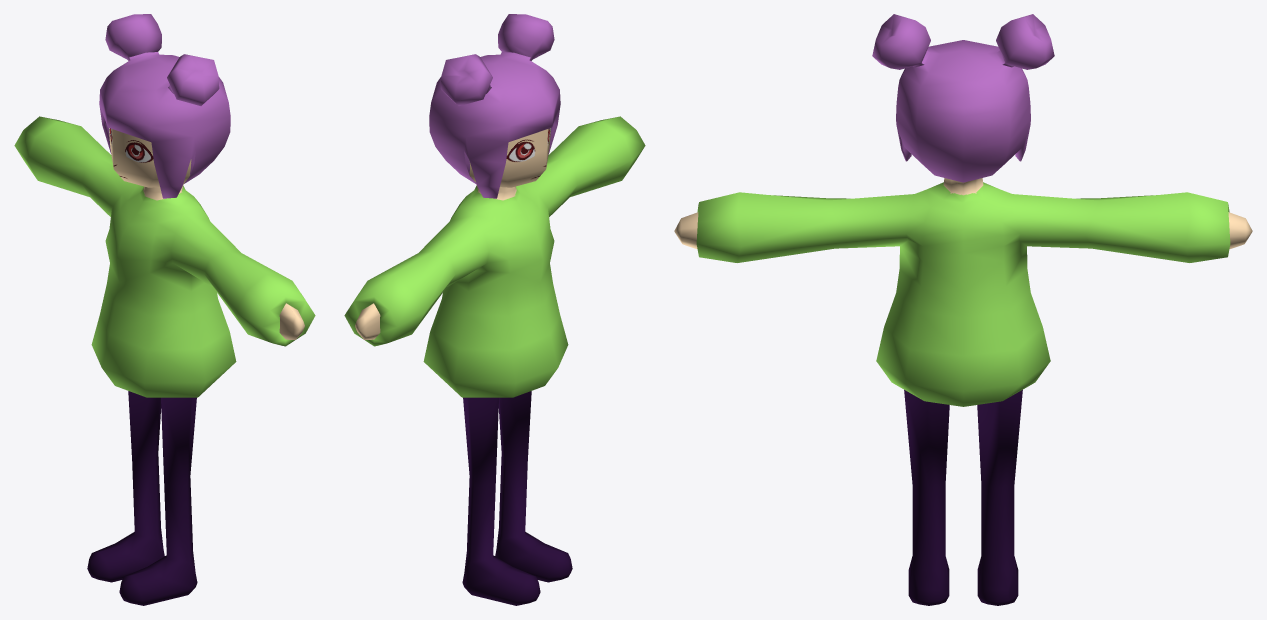
File: floyd.fbx
3 renders of one model, left to right at view 1: azimuth 30°, elevation 25°; view 2: azimuth 150°, elevation 25°; view 3: azimuth 270°, elevation 25°, orthographic. The views are drawn at different scales.
Visible parts, largest first — view 1: Box001; view 2: Box001; view 3: Box001.
Boxes of the visible parts, left/top/right/bottom form: Box001: left=14, top=14, right=315, bottom=605; Box001: left=344, top=14, right=645, bottom=605; Box001: left=674, top=14, right=1252, bottom=605.
Size of the model in its own units: 20.86 by 87.33 by 78.48.
1 material, 1 textured.
